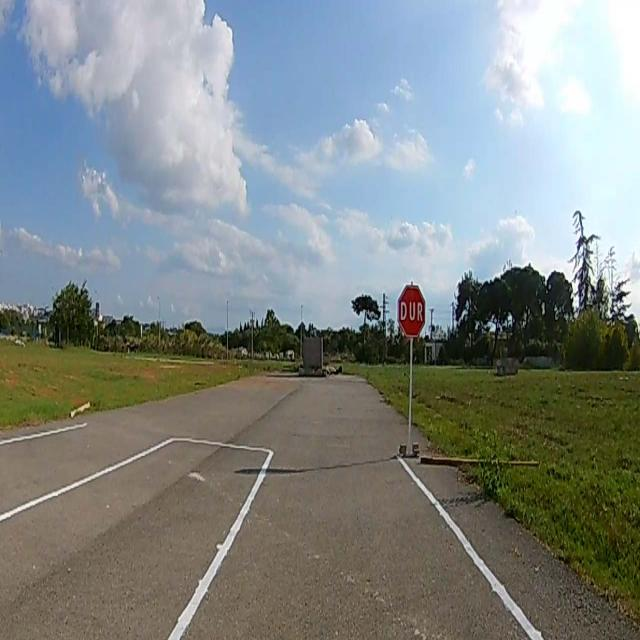dur: (396, 282, 426, 334)
